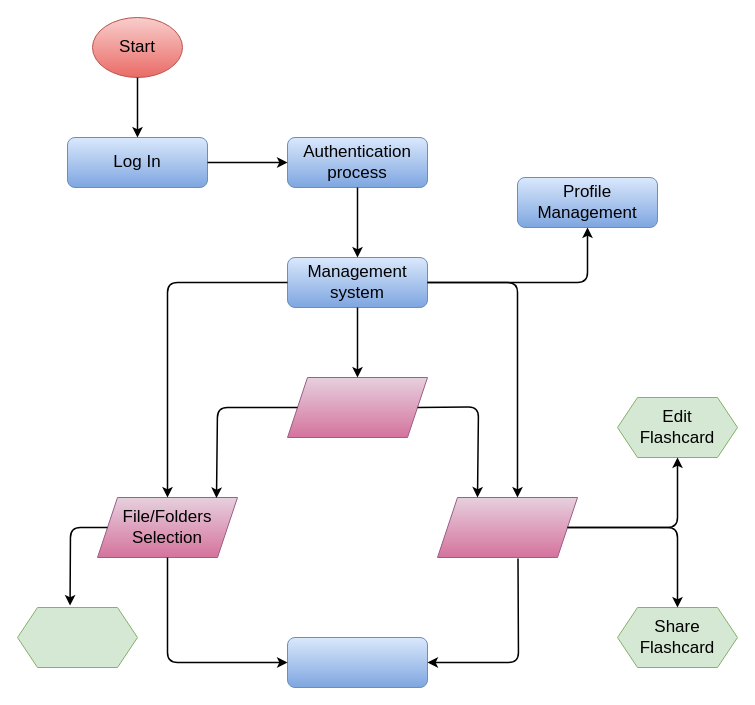
Image size: 755x705. Some labels were removed from this diagram. Here are the shapes that lost their labels. From the top down, the centre of each, then its label:
point 357,407: Social Interaction
point 507,527: Create Flashcard
point 77,637: Upload Process
point 357,662: Storage
